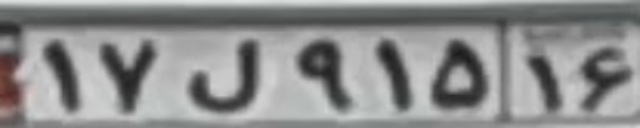1: (41, 40, 83, 111), (372, 37, 408, 111), (524, 53, 564, 112)
5: (426, 38, 483, 108)
6: (578, 46, 637, 111)
7: (96, 36, 160, 118)
9: (293, 40, 353, 112)
lam: (187, 36, 257, 109)
